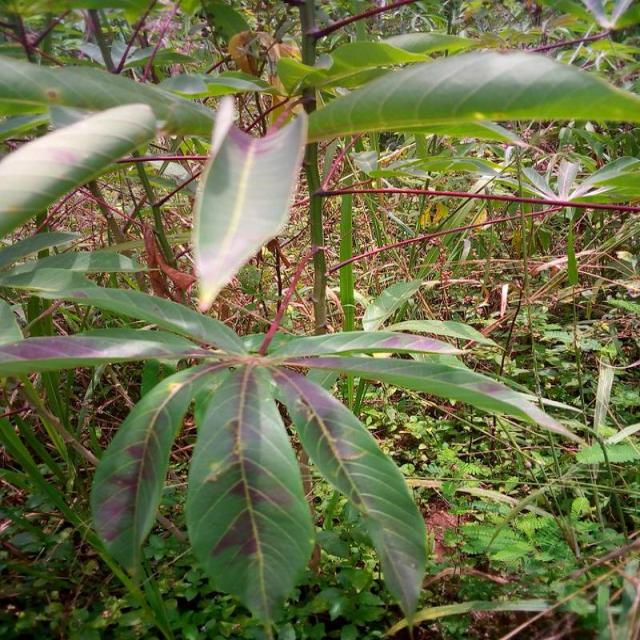cassava leaf: (268, 361, 430, 625), (186, 360, 316, 634), (306, 46, 640, 144), (191, 96, 310, 311), (1, 100, 158, 236)
